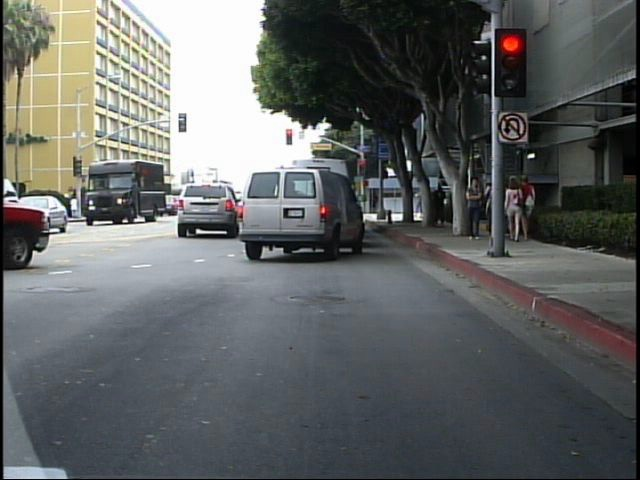person: (519, 171, 543, 247), (504, 170, 527, 245), (467, 175, 487, 242), (432, 175, 448, 230), (65, 190, 81, 222), (412, 185, 424, 217)
